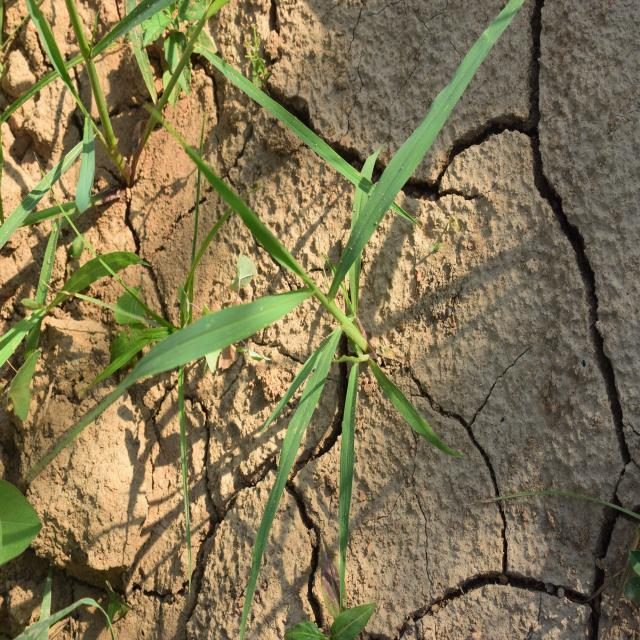green_foxtail: (152, 122, 446, 500)
